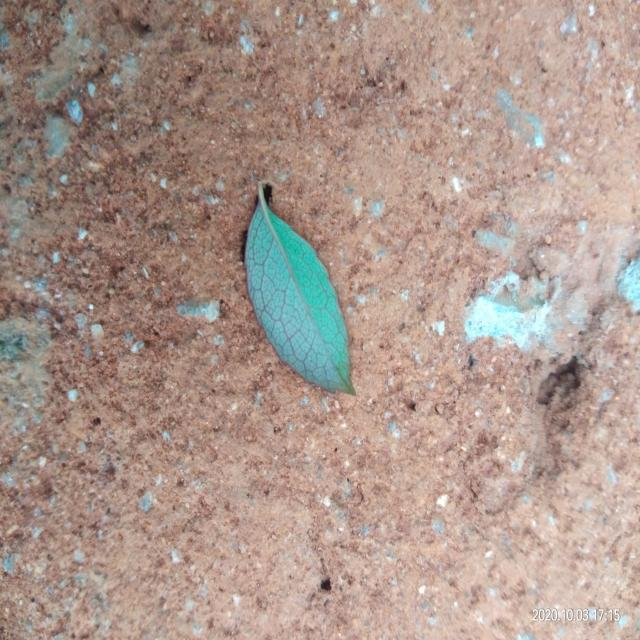rose: (245, 182, 355, 395)
